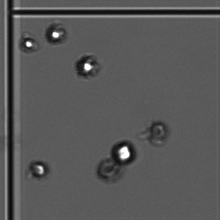Dead Cell: (146, 118, 172, 152), (94, 156, 117, 183)
Living Cell: (108, 138, 137, 165), (74, 50, 99, 78), (43, 19, 70, 44), (27, 155, 51, 181), (17, 32, 38, 58)
